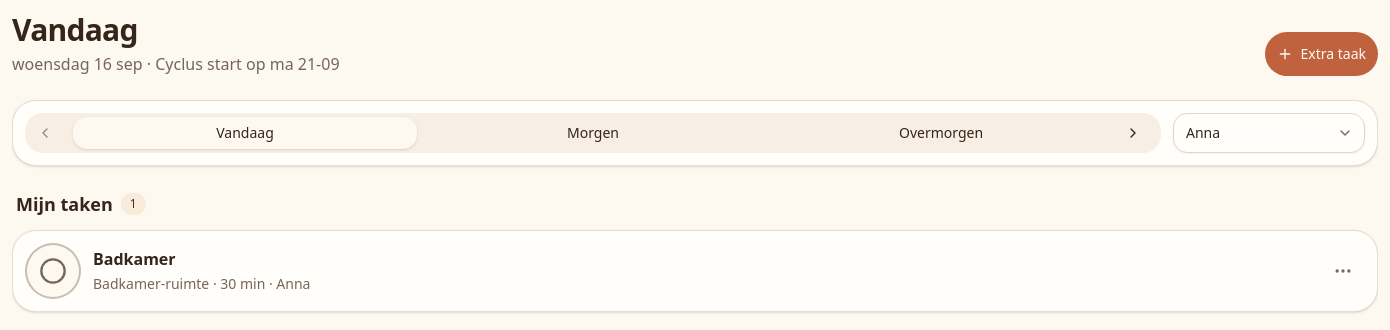
Test: TodayPage › does not show pre-cycle tasks as overdue before the cycle starts
Check: the text "woensdag 16 sep · Cyclus start op ma 21-09" is shown, box left=12, top=52, right=340, bottom=76
Check: the text "Badkamer" is shown, box left=93, top=248, right=176, bottom=270
Click the button "Morgen".
click(593, 133)  # box left=421, top=117, right=765, bottom=149
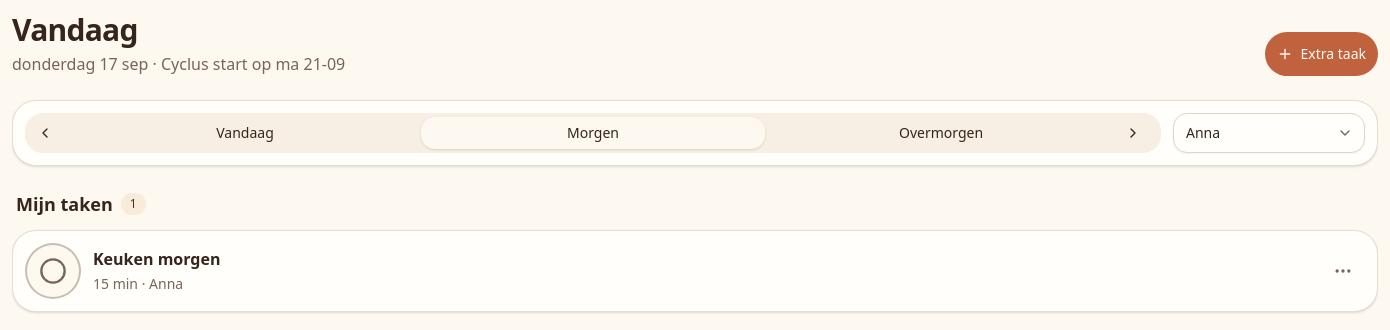
Check: the text "donderdag 17 sep · Cyclus start op ma 21-09" is shown, box left=12, top=52, right=345, bottom=76
